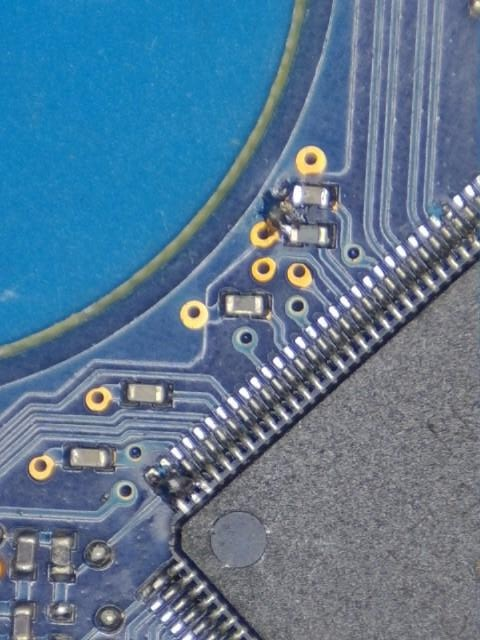pcb_defect: (145, 447, 214, 515), (281, 185, 308, 241)
